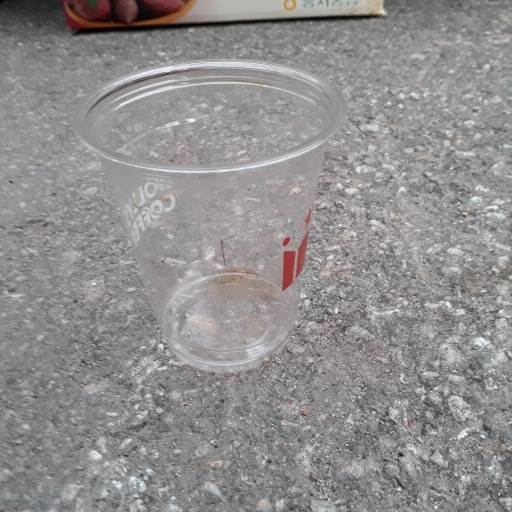Plastic_2: (72, 59, 349, 374)
